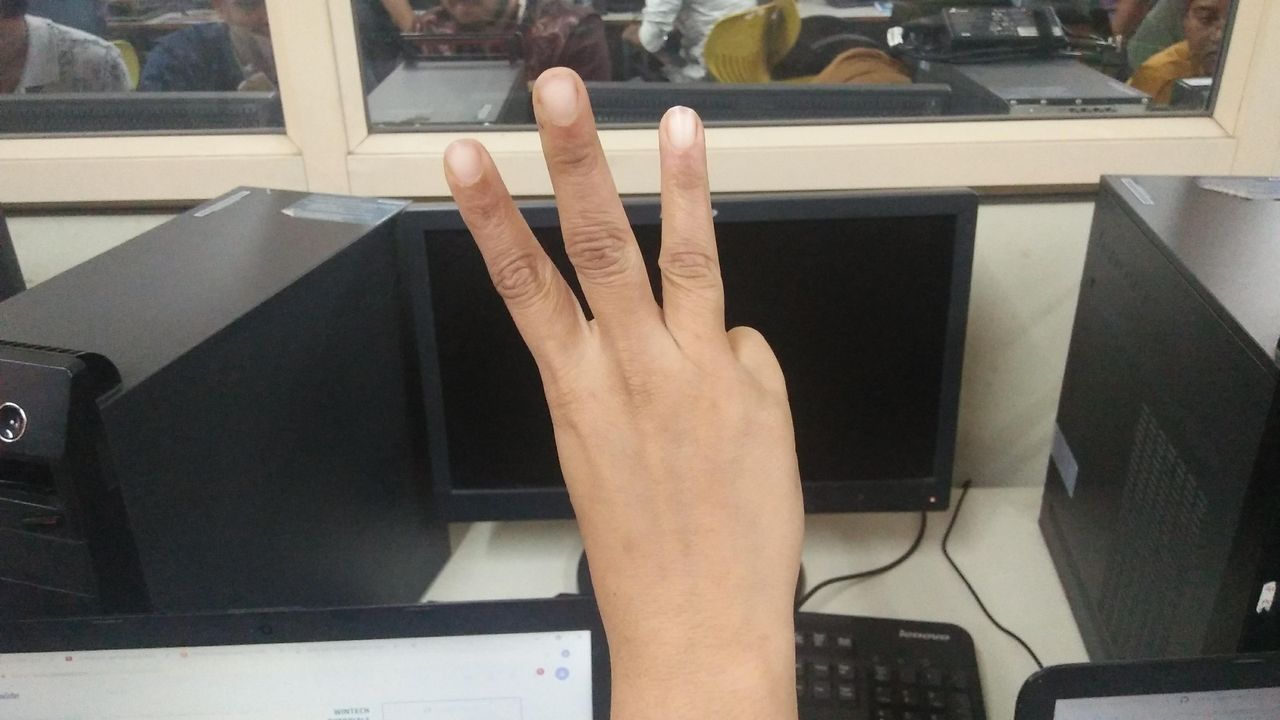fingertip: (524, 60, 594, 126), (432, 130, 496, 190), (652, 96, 710, 156)
